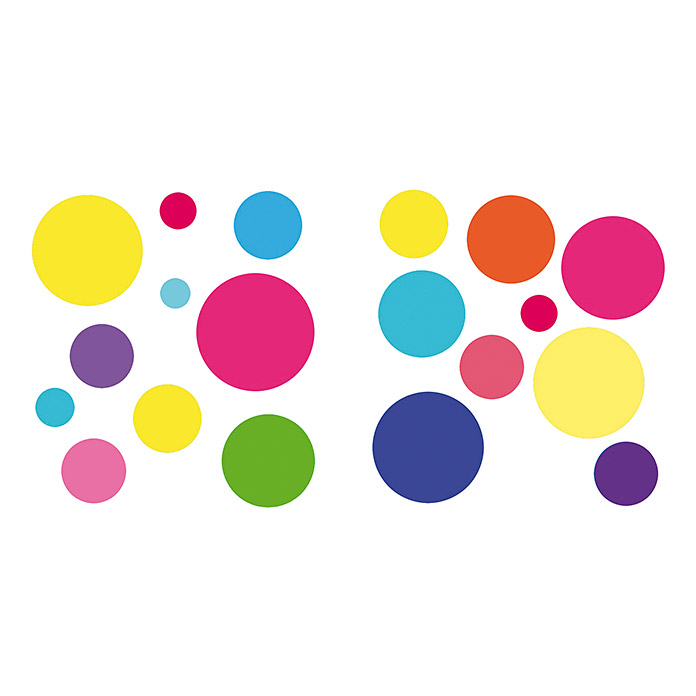circ: (193, 273, 321, 394), (26, 194, 151, 309), (368, 390, 488, 509), (531, 329, 650, 440), (558, 208, 670, 324), (217, 410, 322, 513), (464, 191, 560, 287), (374, 264, 468, 360), (225, 189, 309, 264), (377, 187, 453, 262), (56, 434, 131, 508), (131, 385, 207, 456), (65, 324, 139, 391), (591, 439, 661, 509), (460, 334, 529, 403), (31, 381, 79, 432), (515, 291, 561, 334), (156, 191, 200, 233), (155, 276, 194, 311)
